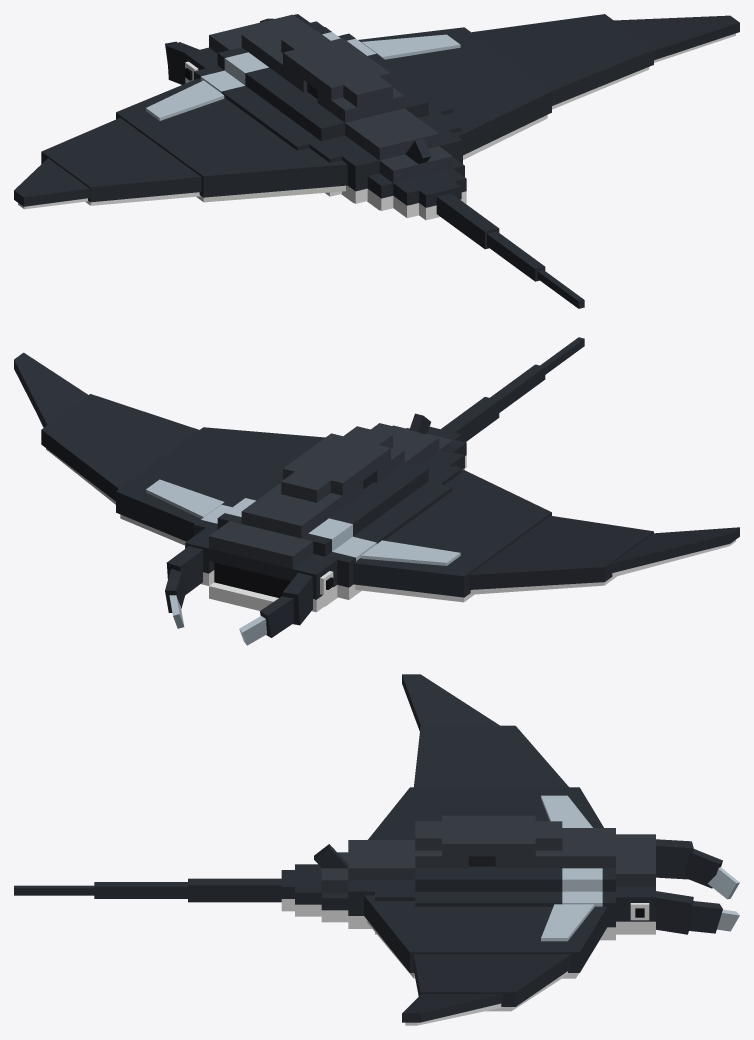
File: MantaRay.obj
The picture shows the model from 3 angles, top to bottom: view 1: azimuth 30°, elevation 25°; view 2: azimuth 150°, elevation 25°; view 3: azimuth 270°, elevation 25°; orthographic projection. The views are drawn at different scales.
Parts seen in each view (by area): view 1: Body, WingL1, WingR1, WingR2, WingL2, WingR3, WingL3, Tail1, Tail2, HornL, Tail3; view 2: Body, WingL1, WingR1, WingR2, WingL2, WingL3, WingR3, HornL, HornR, Tail1, Tail2, Tail3; view 3: Body, WingR1, WingL2, WingL1, WingR2, HornL, WingL3, HornR, Tail1, WingR3, Tail2, Tail3.
Part boxes in pixels (x1,y1,x2,y2): Body: (185,14,466,220); WingL1: (116,78,347,202); WingR1: (358,27,551,159); WingR2: (472,14,653,109); WingL2: (41,117,201,205); WingR3: (614,15,739,62); WingL3: (14,158,89,209); Tail1: (436,193,499,249); Tail2: (487,231,545,281); HornL: (165,41,199,84); Tail3: (537,270,584,308); Body: (185,413,466,612); WingL1: (353,465,551,602); WingR1: (116,427,325,545); WingR2: (41,394,198,504); WingL2: (468,515,653,594); WingL3: (611,527,739,577); WingR3: (14,352,88,427); HornL: (239,573,312,645); HornR: (165,546,203,628); Tail1: (441,397,499,441); Tail2: (490,364,545,412); Tail3: (540,337,584,374); Body: (281,815,655,940); WingR1: (364,895,607,978); WingL2: (414,725,568,787); WingL1: (368,787,603,839); WingR2: (413,954,570,1011); HornL: (656,839,739,899); WingL3: (402,674,499,731); HornR: (656,891,739,934); Tail1: (188,878,281,902); WingR3: (402,994,503,1025); Tail2: (94,882,187,898); Tail3: (14,885,94,895).
Size of the model in its own units: 24 by 2.81 by 21.71.
1 material, 1 textured.
